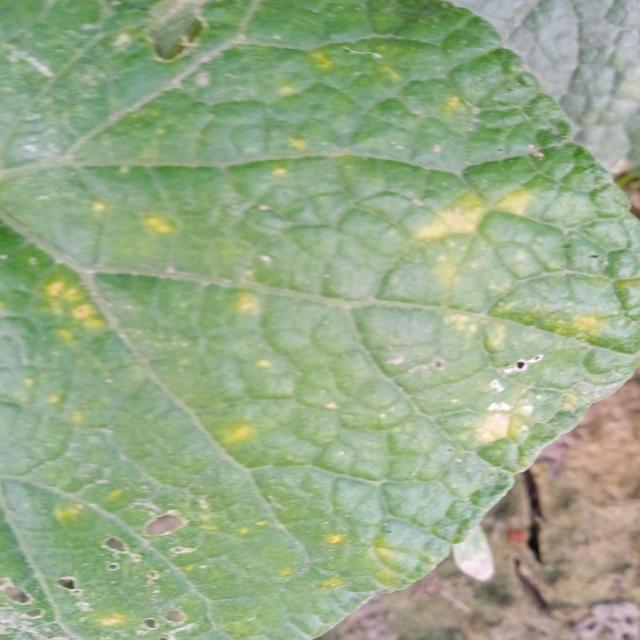cucumber_downy: (9, 36, 628, 636)
